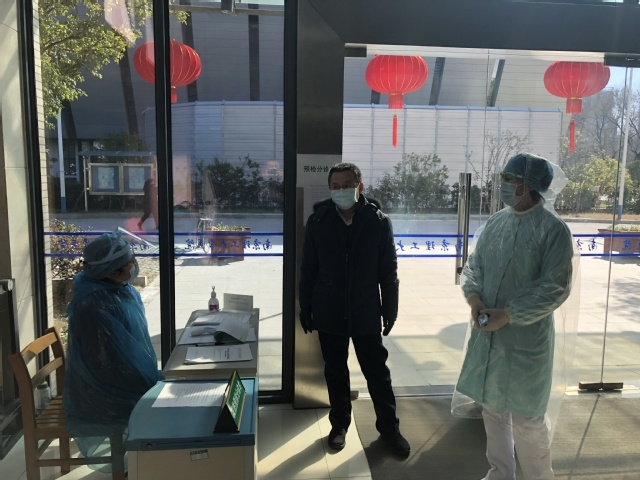correctlyWear: (95, 251, 140, 285), (328, 175, 365, 209), (497, 170, 529, 208)
